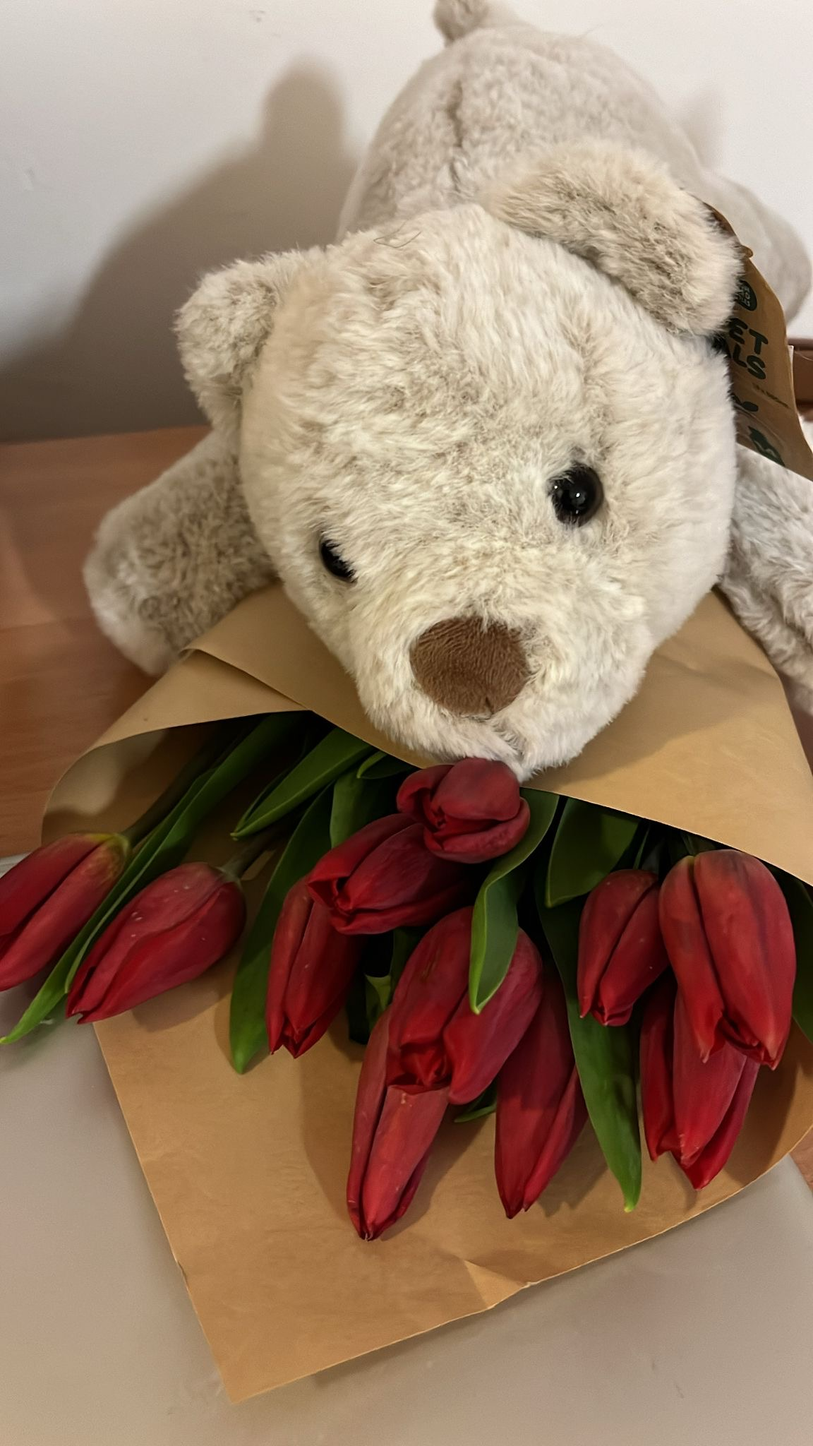tulip: (100, 775, 234, 1048), (658, 850, 802, 1077), (324, 1023, 458, 1240), (390, 901, 526, 1106), (0, 775, 115, 999), (631, 1003, 758, 1191), (411, 728, 558, 870), (565, 853, 673, 1035), (495, 1008, 585, 1213), (324, 801, 441, 952), (263, 884, 347, 1065)
